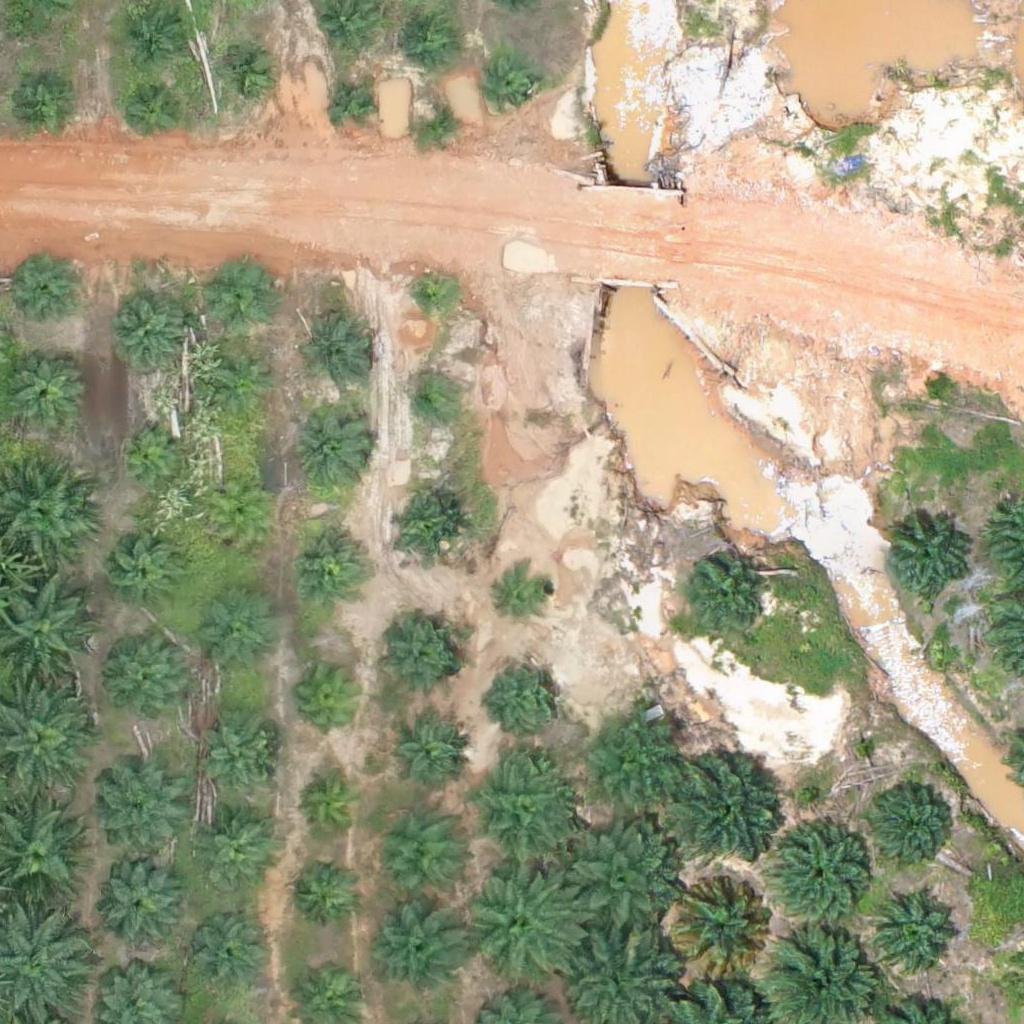Kelapa_Sawit: (460, 856, 585, 982), (663, 741, 788, 867), (552, 821, 677, 946), (665, 870, 778, 983), (577, 704, 689, 818), (766, 820, 878, 934), (467, 756, 579, 869), (366, 812, 466, 912), (380, 617, 468, 705), (192, 810, 280, 898), (98, 767, 186, 855), (95, 856, 183, 944), (883, 515, 971, 603), (104, 636, 191, 725), (384, 714, 471, 802), (682, 556, 769, 644), (375, 902, 462, 990), (191, 718, 278, 806), (183, 912, 270, 1000), (107, 289, 194, 377), (2, 346, 89, 434), (875, 885, 962, 973), (870, 780, 957, 868), (297, 311, 372, 387), (7, 256, 82, 332), (388, 492, 463, 568), (286, 856, 361, 932), (292, 768, 367, 844), (490, 655, 565, 731), (297, 408, 372, 484), (105, 535, 180, 610), (202, 599, 277, 674), (289, 526, 364, 601), (295, 659, 370, 734), (9, 63, 72, 126), (121, 80, 184, 143), (210, 261, 273, 324), (401, 7, 464, 70), (206, 483, 269, 546), (125, 2, 187, 65), (216, 357, 278, 420), (216, 42, 278, 105), (495, 564, 557, 627), (115, 423, 177, 485), (328, 77, 378, 128), (414, 98, 464, 149), (485, 64, 535, 114), (407, 272, 457, 322), (403, 379, 453, 429)
